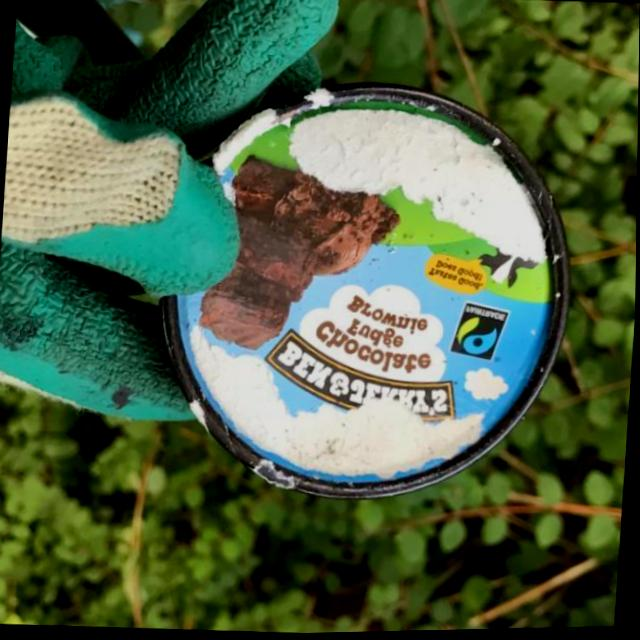Paper: (141, 64, 586, 521)
